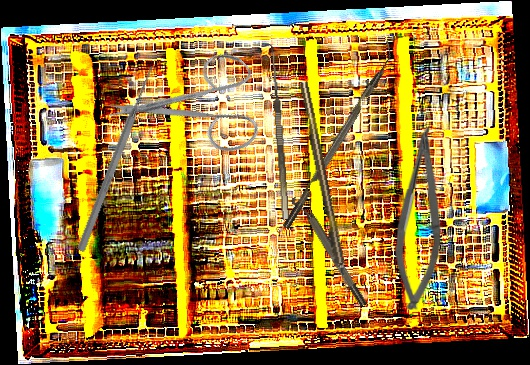Chopper: (274, 40, 401, 230)
Fixation Ring: (290, 191, 369, 311)
Hook Surgical: (298, 80, 351, 296), (260, 43, 290, 221)
Iris Scissors: (102, 18, 287, 202)
Micro Scissor: (393, 124, 444, 311)
Pusher: (75, 62, 158, 254)
